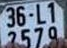1: (47, 2, 57, 24)
3: (6, 6, 16, 28)
5: (20, 28, 33, 48)
6: (16, 6, 27, 27)
7: (33, 27, 44, 48)
9: (47, 25, 60, 48)
L: (36, 4, 47, 24)
